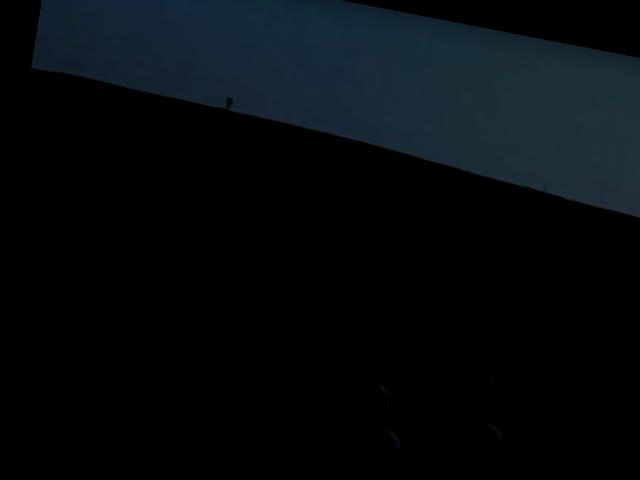iha: (429, 167, 456, 198)
